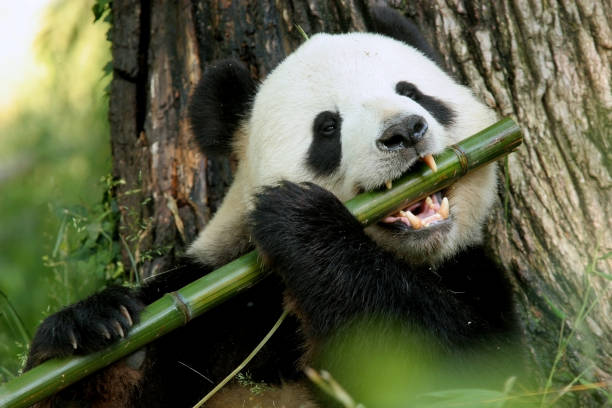panda: (173, 5, 527, 306)
